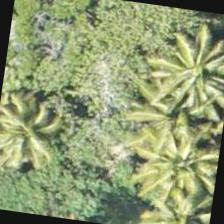Kelapa_Sawit: (116, 1, 218, 99), (139, 108, 223, 208), (0, 71, 66, 170), (150, 179, 215, 223)
